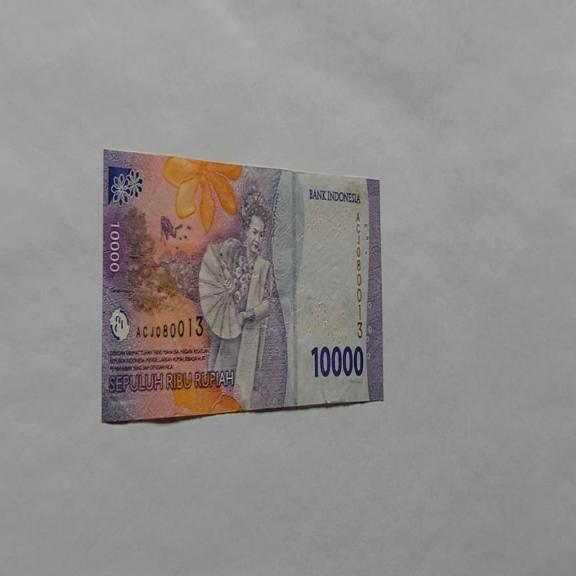Kertas: (101, 146, 384, 424)
